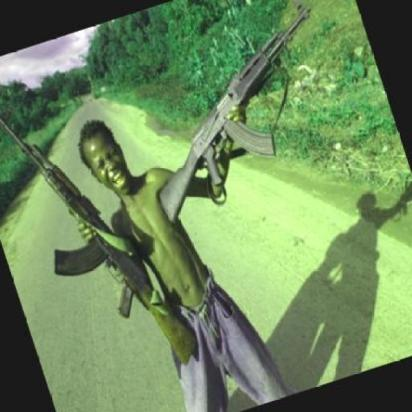Gun: (2, 65, 204, 395), (130, 0, 307, 222)
